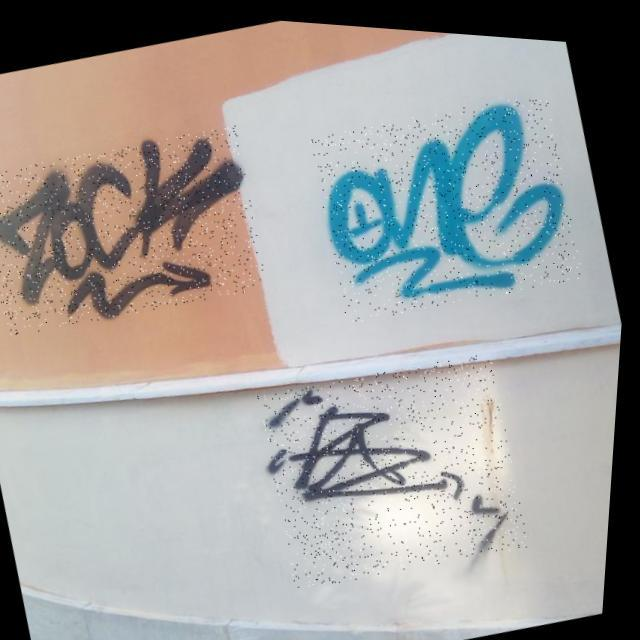-: (252, 330, 546, 598), (301, 69, 596, 331), (0, 107, 279, 352)
